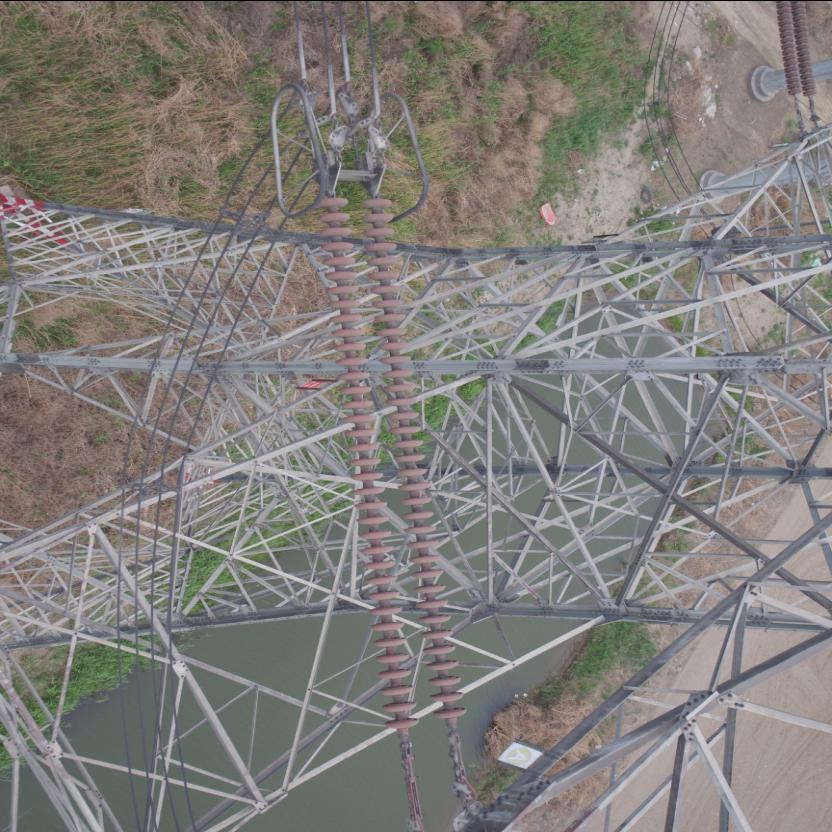insulator: (311, 180, 473, 770), (774, 0, 824, 110)
